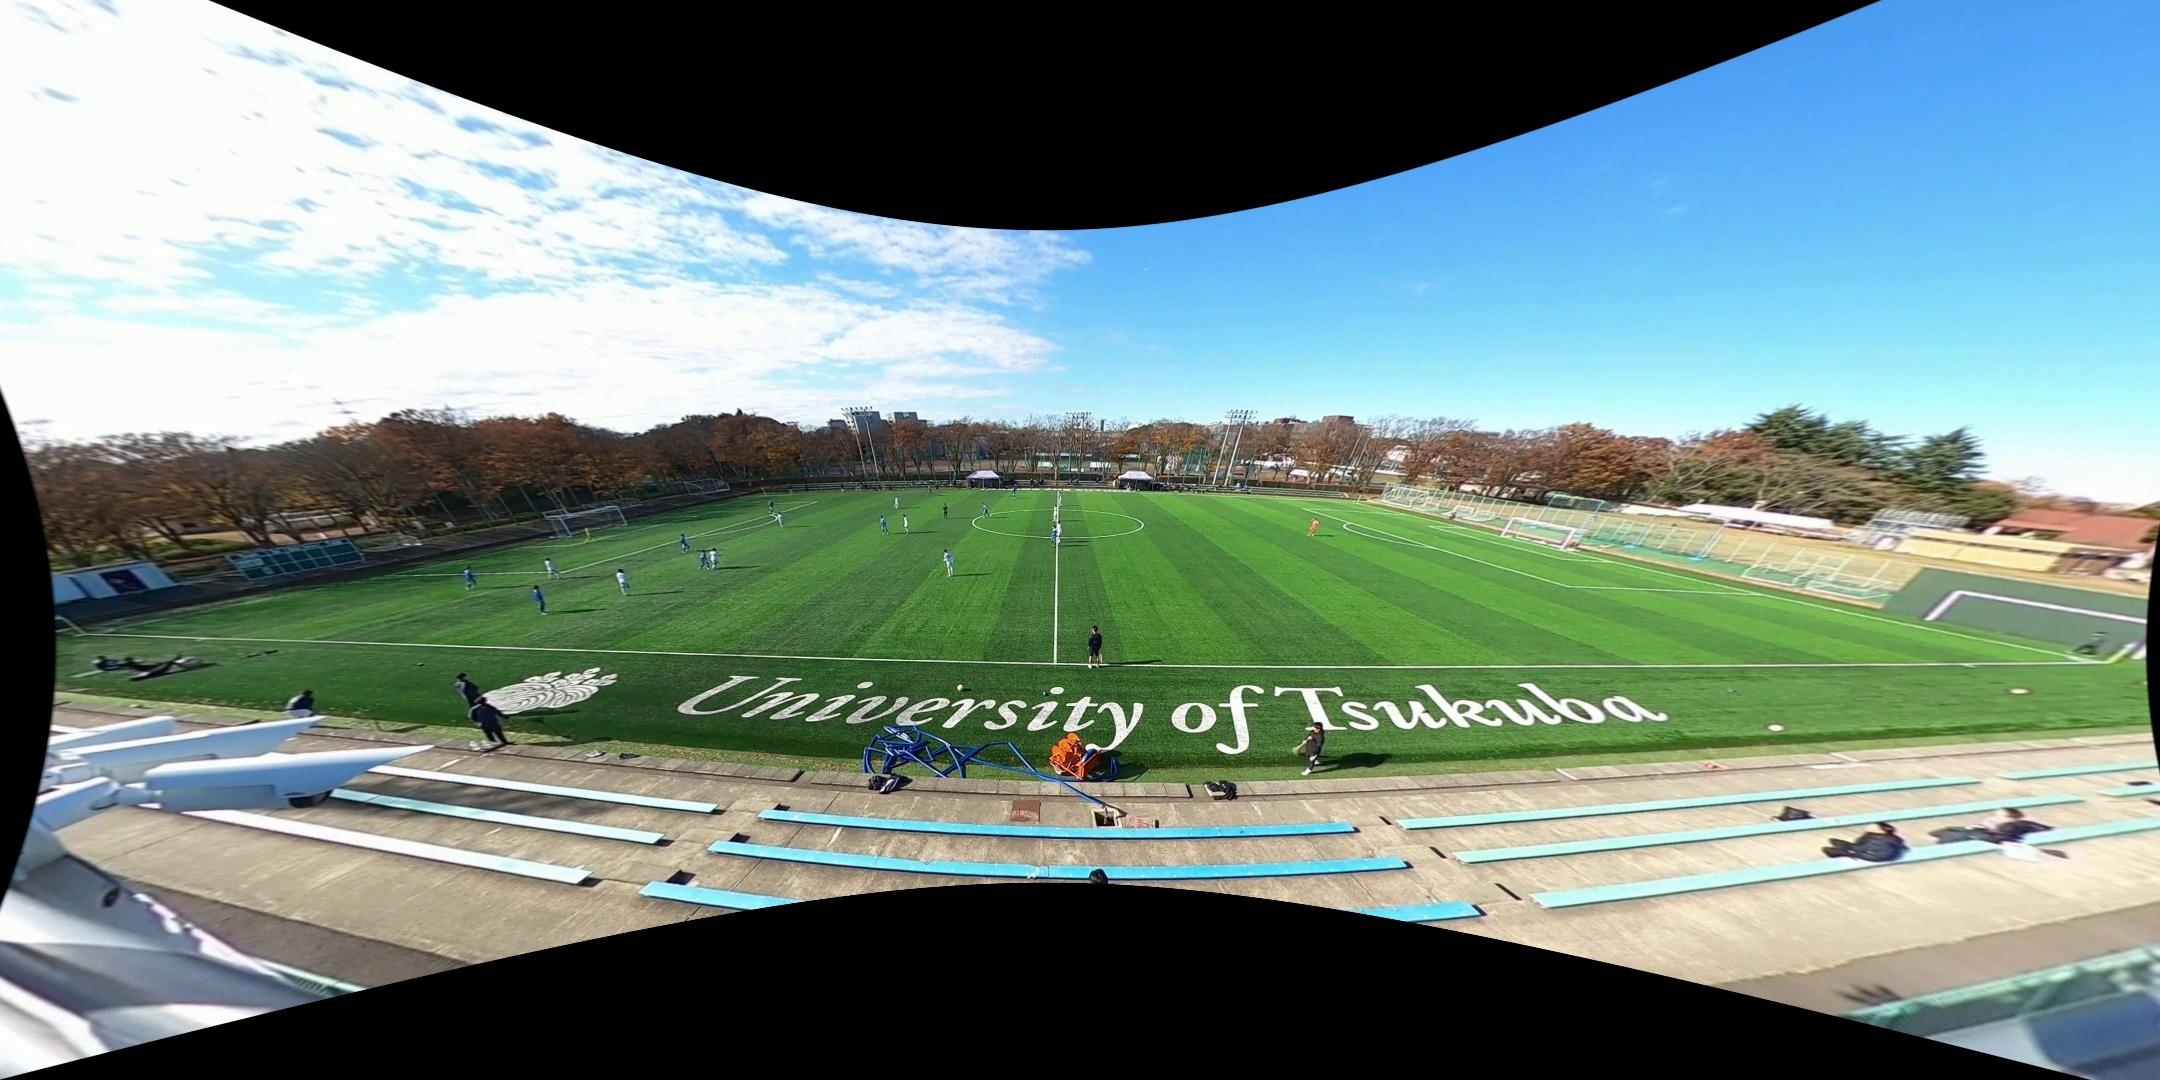person: (1085, 627, 1103, 666), (460, 563, 479, 591), (534, 585, 547, 617), (616, 570, 631, 596), (544, 559, 563, 578), (1306, 518, 1323, 539), (707, 549, 723, 570), (942, 550, 954, 578), (697, 550, 711, 570), (678, 532, 690, 555), (584, 525, 597, 544), (901, 514, 912, 534), (980, 503, 992, 519), (878, 516, 888, 535), (775, 511, 786, 527), (1049, 525, 1057, 546), (1055, 522, 1063, 542), (941, 503, 949, 520), (767, 498, 774, 515), (892, 496, 901, 509), (924, 485, 933, 497), (1051, 505, 1057, 522), (1011, 487, 1017, 501), (1058, 495, 1062, 506)
sports ball: (694, 546, 699, 553)
